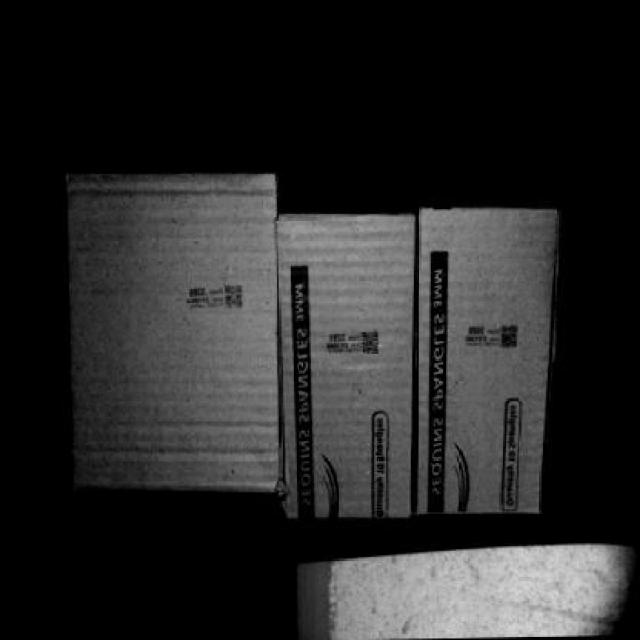cardboxes: (63, 178, 280, 485), (408, 209, 562, 522), (275, 220, 413, 520)
